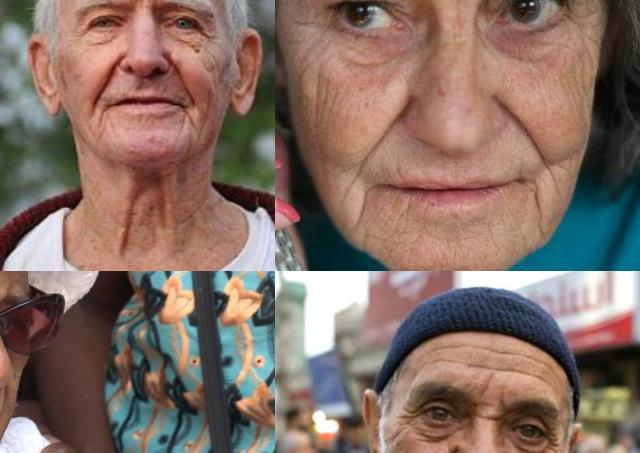chin: (391, 196, 412, 234), (482, 221, 500, 251)
crows_feet: (397, 404, 421, 432), (198, 28, 218, 46), (544, 431, 560, 453), (71, 21, 87, 41)
forehead: (476, 357, 514, 382), (475, 338, 515, 360), (428, 352, 470, 370), (428, 338, 466, 354), (522, 350, 552, 370), (518, 366, 550, 384)
frown_line: (476, 402, 502, 422), (451, 0, 464, 35), (0, 271, 4, 298), (135, 0, 146, 7)
gummy_smile: (360, 82, 404, 170), (499, 92, 551, 164), (93, 52, 117, 104), (169, 57, 191, 105), (0, 387, 8, 424)
masseter: (315, 66, 337, 130), (570, 47, 594, 101)
sad_smile: (528, 179, 550, 239), (349, 186, 376, 234), (177, 107, 196, 143), (92, 109, 106, 139)
